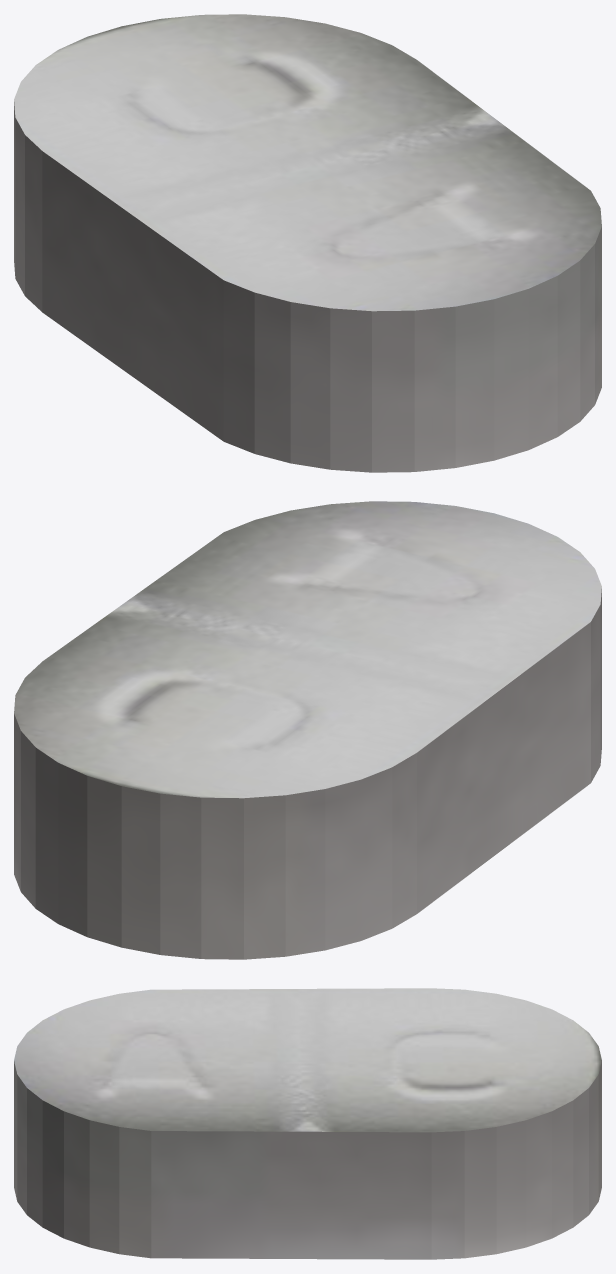
The picture shows the model from 3 angles, top to bottom: view 1: azimuth 30°, elevation 25°; view 2: azimuth 150°, elevation 25°; view 3: azimuth 270°, elevation 25°; orthographic projection. The views are drawn at different scales.
Parts seen in each view (by area): view 1: 圓柱體; view 2: 圓柱體; view 3: 圓柱體.
Boxes of the visible parts, x1=… form: 圓柱體: x1=14, y1=14, x2=601, y2=472; 圓柱體: x1=14, y1=501, x2=601, y2=959; 圓柱體: x1=14, y1=988, x2=601, y2=1259.
Bounding box in the file's own units: 1.7 × 0.7007 × 2.93.
